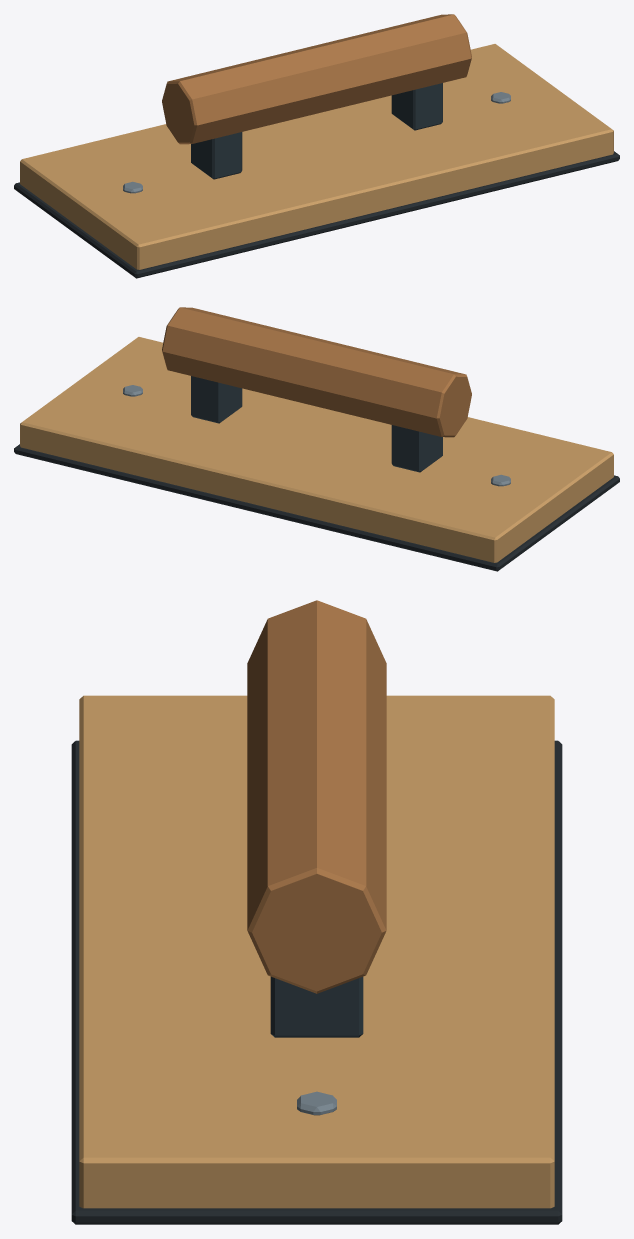
File: b06_plastering_float.glb
The picture shows the model from 3 angles, top to bottom: view 1: azimuth 30°, elevation 25°; view 2: azimuth 150°, elevation 25°; view 3: azimuth 270°, elevation 25°; orthographic projection. The views are drawn at different scales.
Visible parts, largest first — view 1: b06_plastering_float; view 2: b06_plastering_float; view 3: b06_plastering_float.
Boxes of the visible parts, x1,y1,x2,y2 form: b06_plastering_float: [14, 14, 619, 278]; b06_plastering_float: [14, 307, 619, 571]; b06_plastering_float: [71, 600, 562, 1224].
Bounding box in the file's own units: 0.29 × 0.073 × 0.127.
